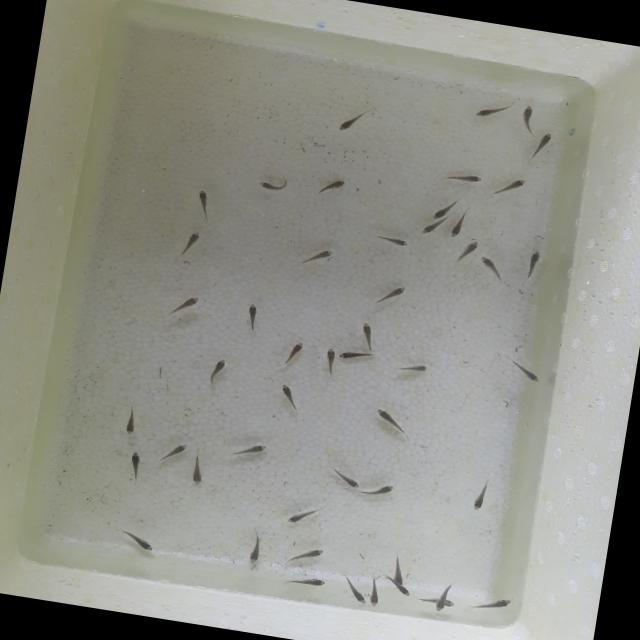fingerling: (372, 408, 414, 440), (114, 528, 160, 554), (337, 105, 371, 136), (506, 360, 546, 386), (122, 448, 150, 484), (296, 246, 334, 272), (338, 578, 371, 607), (491, 174, 527, 200), (440, 168, 484, 189), (284, 504, 319, 530), (288, 543, 326, 566), (476, 255, 506, 283), (470, 476, 492, 514), (188, 450, 210, 488), (178, 230, 204, 262), (190, 188, 216, 220), (449, 203, 469, 243), (473, 102, 511, 123), (284, 573, 326, 592), (376, 282, 406, 308), (276, 382, 302, 412), (170, 293, 202, 317), (476, 594, 514, 614), (330, 468, 362, 491), (455, 238, 481, 266), (122, 402, 142, 438), (523, 248, 545, 280), (232, 439, 268, 458), (338, 348, 378, 365), (518, 104, 538, 138), (356, 322, 378, 352), (535, 130, 558, 158), (164, 438, 192, 461), (284, 339, 307, 367), (320, 346, 342, 375), (316, 176, 346, 196), (244, 538, 264, 568), (256, 176, 289, 194), (374, 232, 411, 248), (433, 197, 456, 222), (390, 580, 416, 602), (243, 303, 262, 333), (432, 586, 452, 614), (396, 359, 430, 375), (366, 481, 396, 498), (210, 356, 231, 380), (366, 582, 384, 608), (420, 218, 442, 238)
